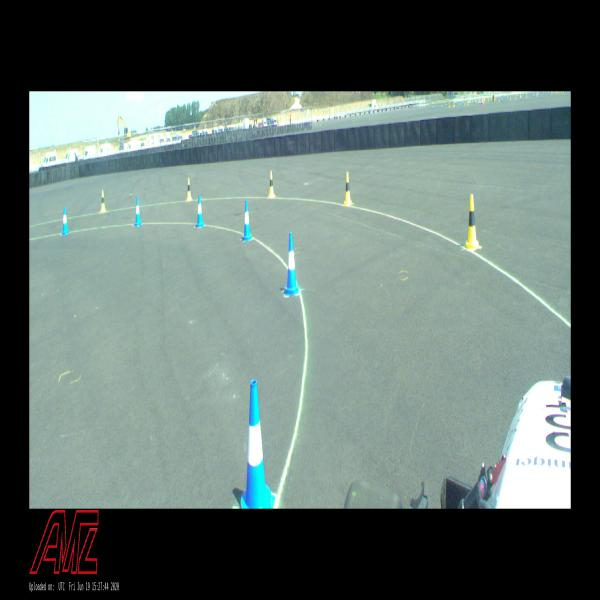blue_cone: (240, 380, 275, 508), (284, 233, 299, 295), (241, 200, 252, 241), (195, 194, 204, 228), (133, 197, 142, 226), (62, 207, 69, 235)
yellow_cone: (465, 194, 480, 249), (344, 172, 353, 205), (186, 177, 193, 201), (269, 171, 275, 197), (101, 190, 106, 212), (488, 98, 488, 102)
